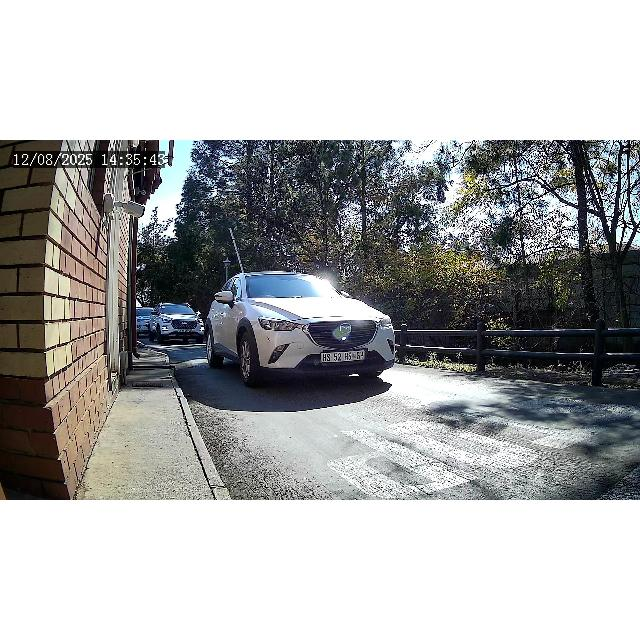car: (204, 272, 396, 386), (146, 302, 204, 346)
plate: (320, 350, 366, 362), (178, 329, 192, 333)
